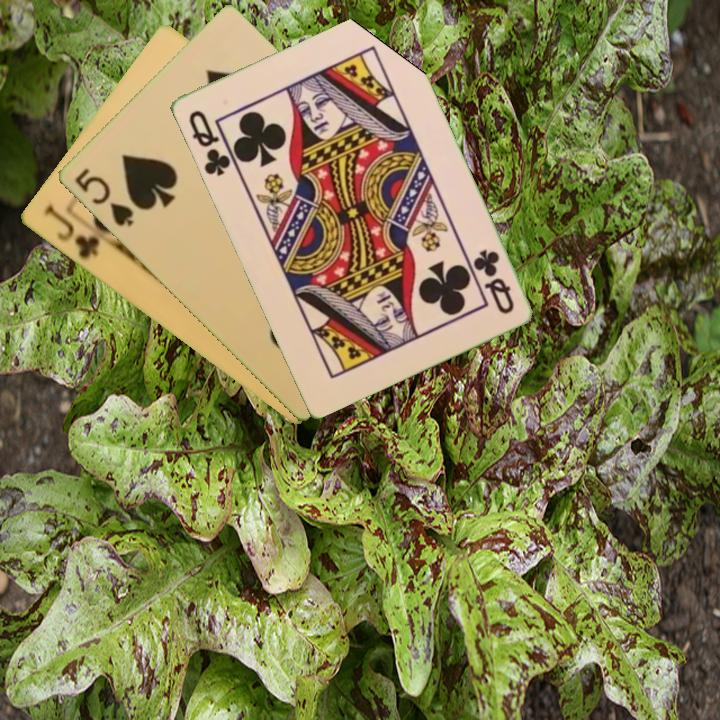5s: (70, 164, 136, 229)
Jc: (39, 202, 103, 262)
Qc: (184, 106, 239, 179), (469, 246, 517, 317)
